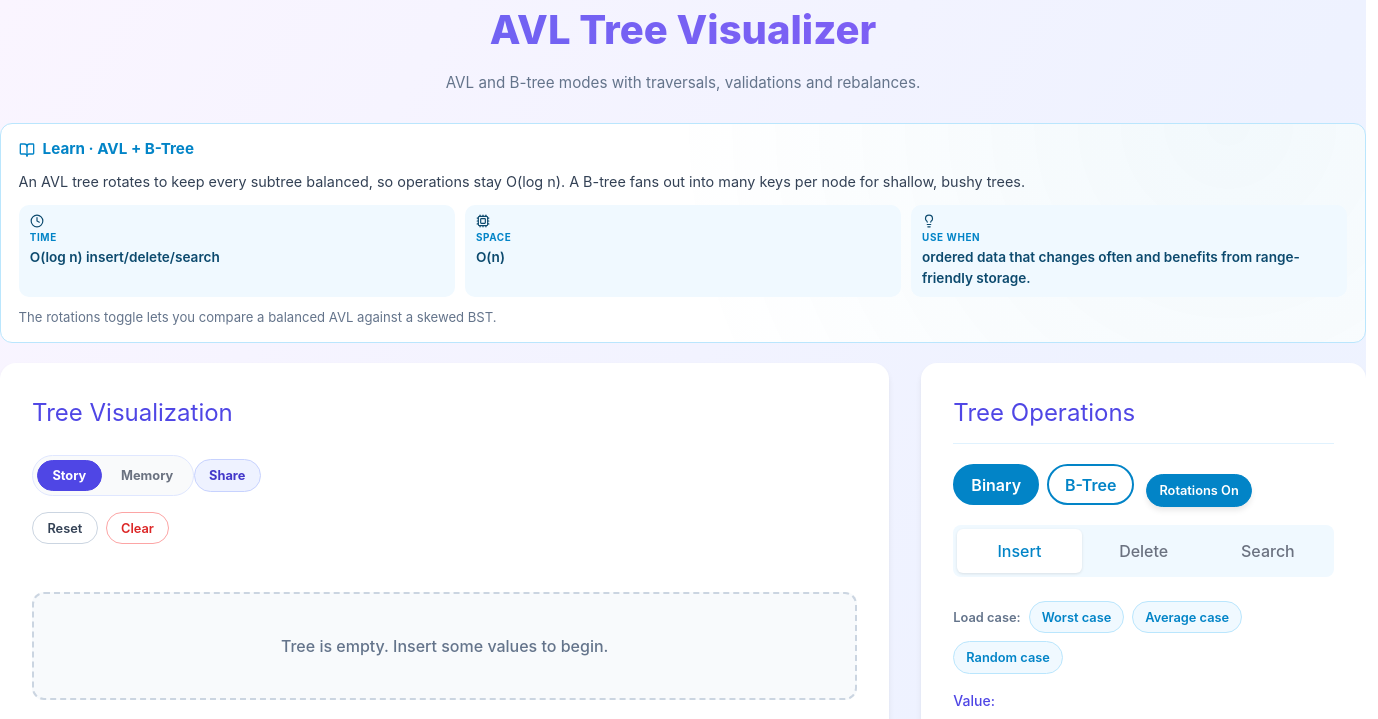
Test: case presets › worst loads sorted input, average a balanced demo, random unique values
Step 1. Click the button "Worst case" → coordinates (1076, 617), box [1029, 601, 1124, 633]
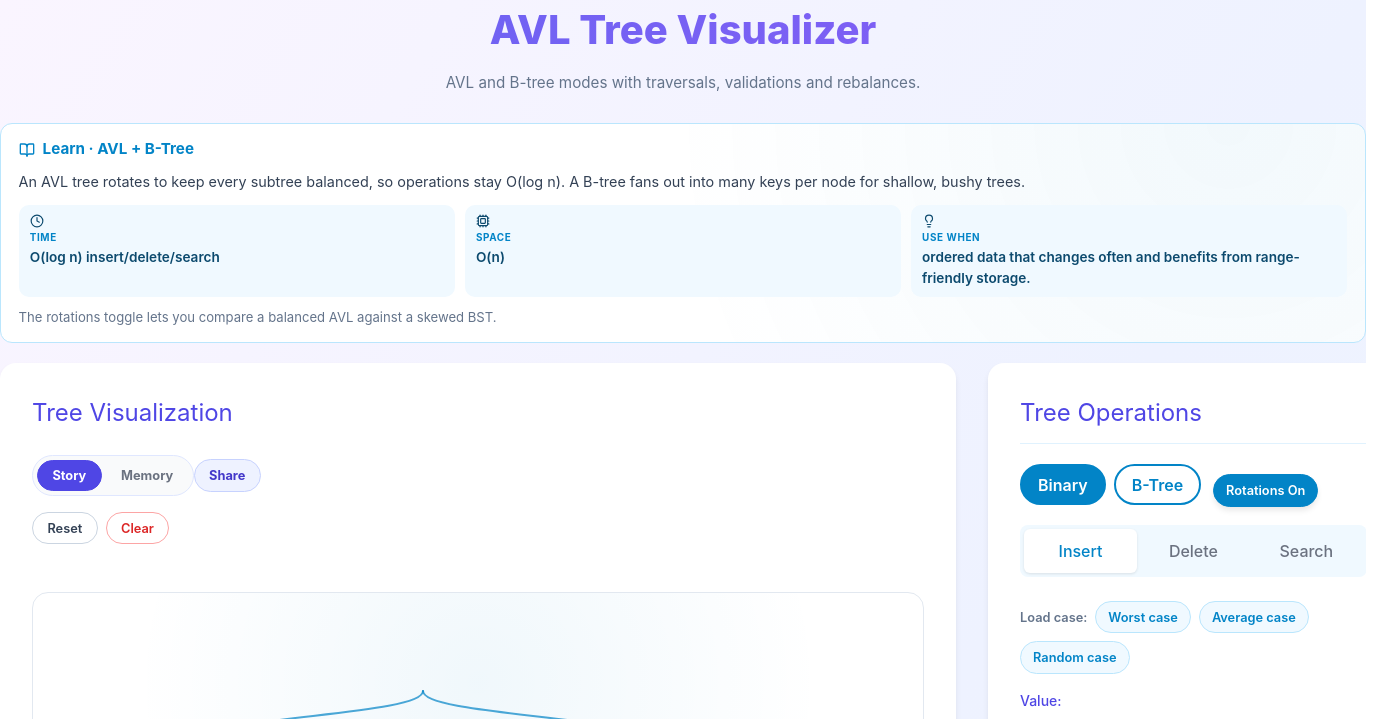
Step 2. Click the button "Average case" → coordinates (1254, 617), box [1199, 601, 1309, 633]
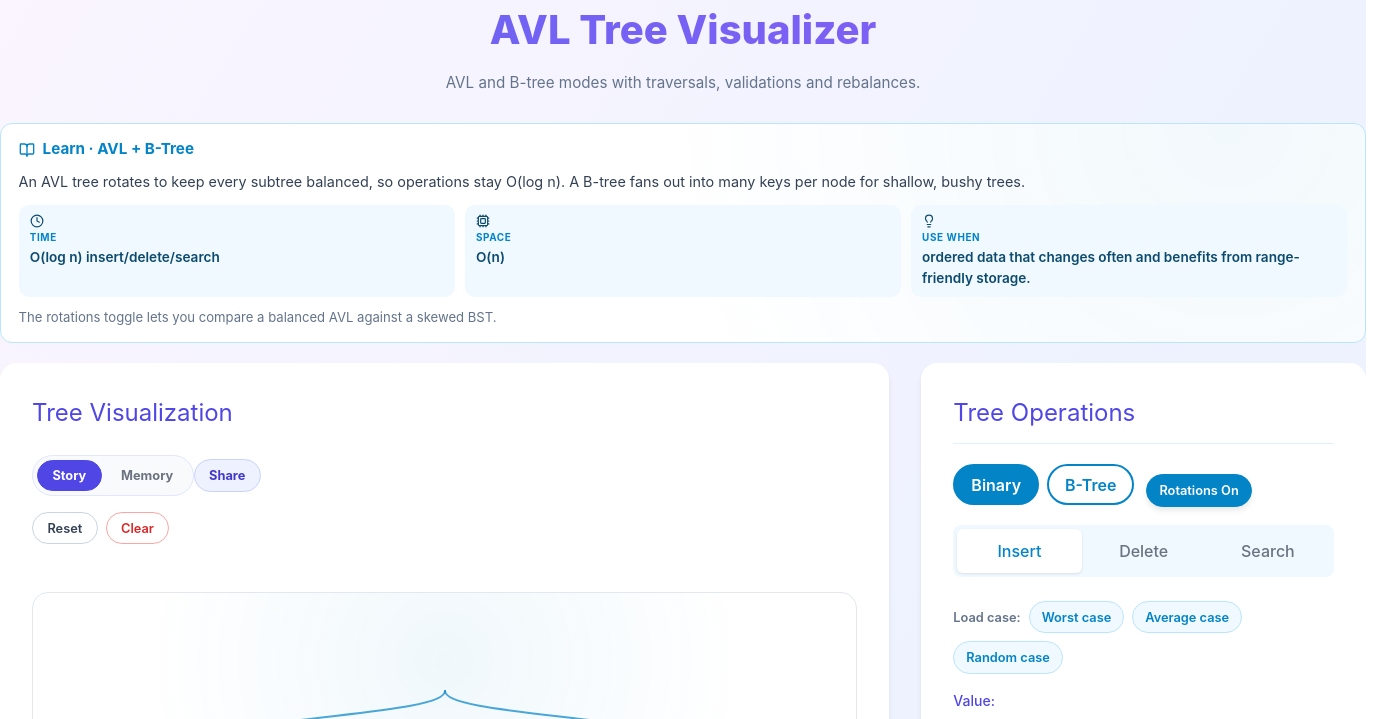
Step 3. Click the button "Random case" → coordinates (1008, 658), box [953, 641, 1063, 674]
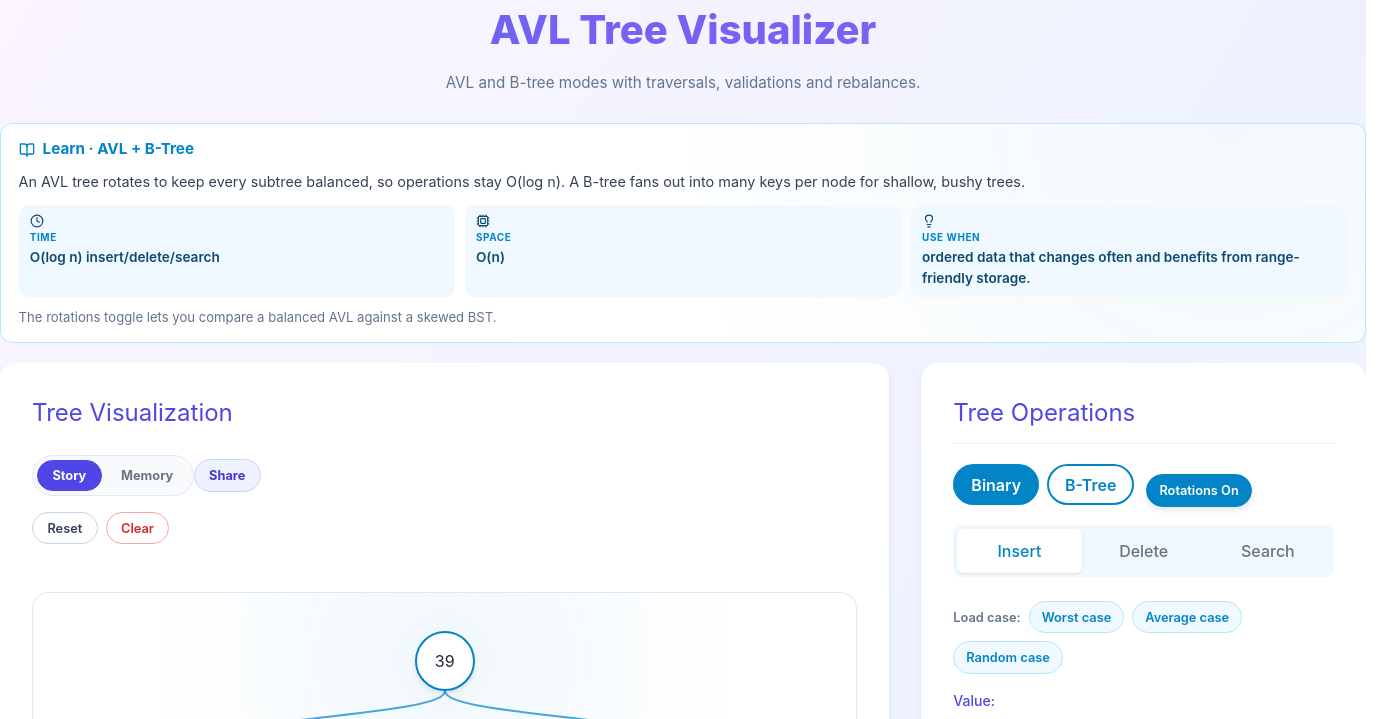
Result: the number of elements with class "tree-node" is 7
